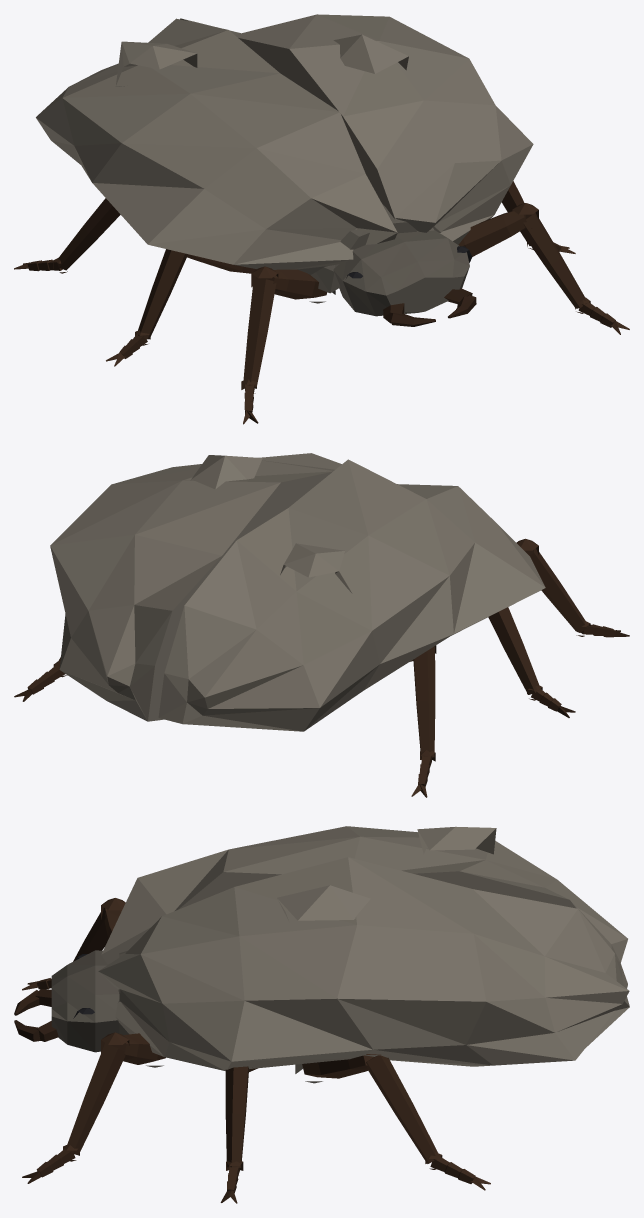
The model's file is mimic.glb.
The picture shows the model from 3 angles, top to bottom: view 1: azimuth 30°, elevation 25°; view 2: azimuth 150°, elevation 25°; view 3: azimuth 270°, elevation 25°; orthographic projection. The views are drawn at different scales.
Parts seen in each view (by area): view 1: BeetlePlate_01, BeetlePlate_00, HeadBase001, BeetlePlate_chip, Tibia001, Tibia000, Tibia003, Femur000, Tibia005, Femur001, ThoraxCore; view 2: BeetlePlate_01, BeetlePlate_00, BeetlePlate_chip, Tibia005, Tibia003, Tibia001; view 3: BeetlePlate_00, BeetlePlate_01, HeadBase001, BeetlePlate_chip, Tibia004, Tibia000, Tibia002, Femur004, Femur000, Tibia001, Tarsus1004.
Boxes of the visible parts, x1=… form: BeetlePlate_01: x1=36, y1=18, x2=397, y2=274; BeetlePlate_00: x1=180, y1=14, x2=533, y2=244; HeadBase001: x1=333, y1=230, x2=469, y2=316; BeetlePlate_chip: x1=115, y1=34, x2=408, y2=86; Tibia001: x1=243, y1=278, x2=276, y2=387; Tibia000: x1=521, y1=212, x2=586, y2=308; Tibia003: x1=138, y1=249, x2=186, y2=339; Femur000: x1=458, y1=211, x2=526, y2=256; Tibia005: x1=57, y1=198, x2=120, y2=270; Femur001: x1=256, y1=269, x2=327, y2=299; ThoraxCore: x1=311, y1=203, x2=441, y2=293; BeetlePlate_01: x1=158, y1=459, x2=545, y2=731; BeetlePlate_00: x1=50, y1=453, x2=341, y2=721; BeetlePlate_chip: x1=191, y1=455, x2=352, y2=593; Tibia005: x1=413, y1=646, x2=435, y2=758; Tibia003: x1=488, y1=607, x2=540, y2=694; Tibia001: x1=525, y1=548, x2=587, y2=632; BeetlePlate_00: x1=98, y1=857, x2=629, y2=1070; BeetlePlate_01: x1=101, y1=826, x2=627, y2=988; HeadBase001: x1=51, y1=950, x2=119, y2=1052; BeetlePlate_chip: x1=277, y1=826, x2=496, y2=920; Tibia004: x1=366, y1=1055, x2=437, y2=1163; Tibia000: x1=66, y1=1043, x2=125, y2=1155; Tibia002: x1=225, y1=1066, x2=248, y2=1167; Femur004: x1=302, y1=1055, x2=373, y2=1078; Femur000: x1=110, y1=1033, x2=165, y2=1064; Tibia001: x1=73, y1=907, x2=108, y2=961; Tarsus1004: x1=430, y1=1157, x2=475, y2=1183.
Size of the model in its own units: 2.85 by 1.3 by 3.09.
